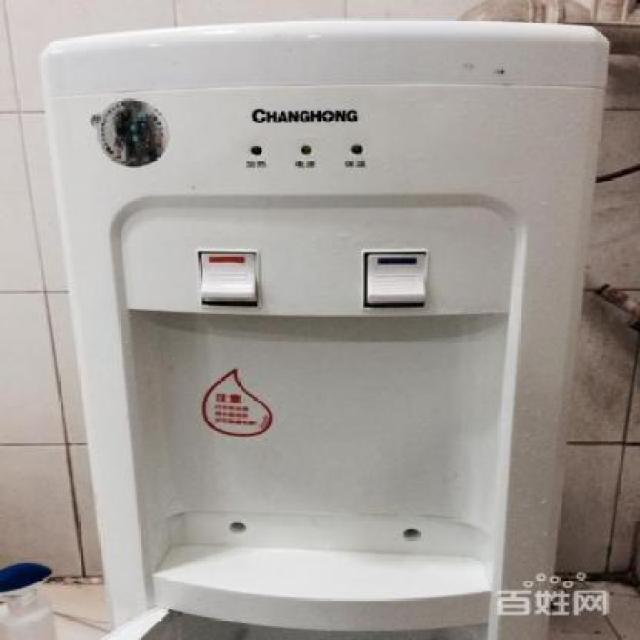cooler: (38, 12, 617, 640)
